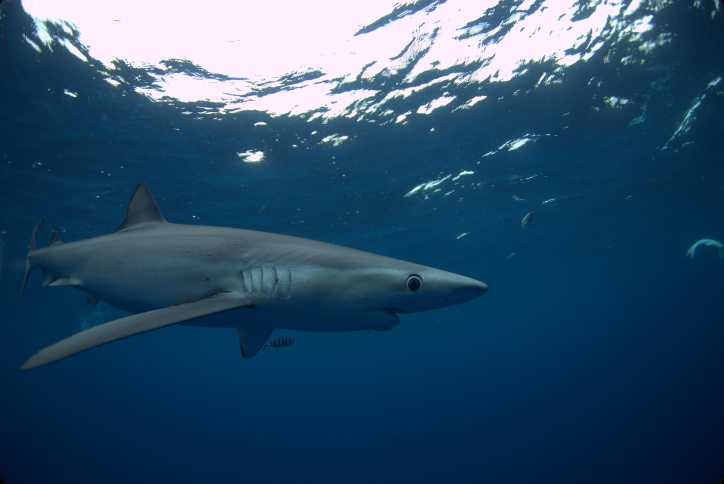Azul: (1, 175, 505, 399)
